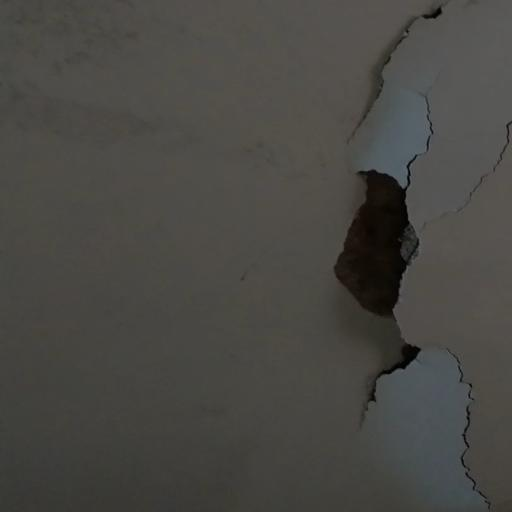peeling: (318, 6, 512, 512)
